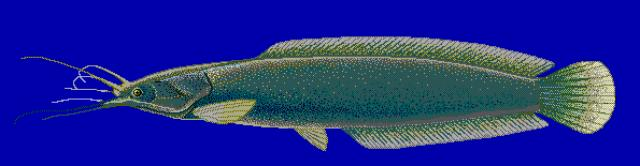Sirip Anal: (338, 106, 556, 156)
Sirip Dada: (183, 90, 265, 136)
Sirip Ekor: (544, 47, 624, 143)
Sirip Perut: (288, 117, 338, 160)
Sirip Punggung: (252, 28, 558, 86)
